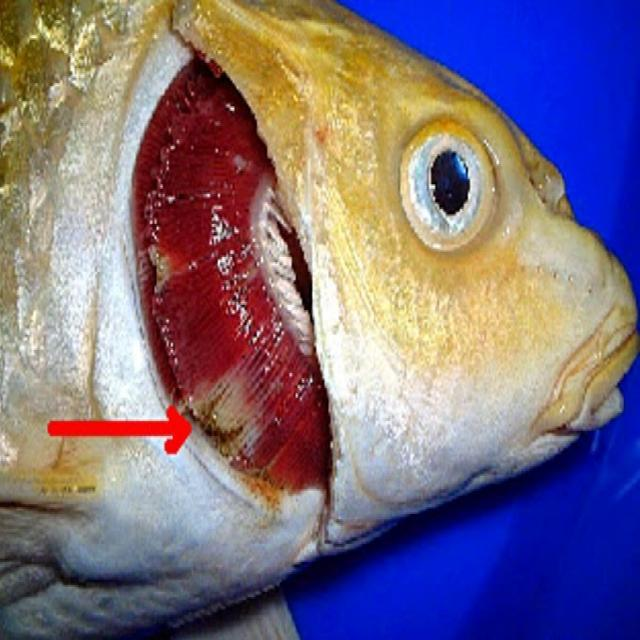EUS Disease: (4, 3, 638, 638), (94, 58, 356, 556)
